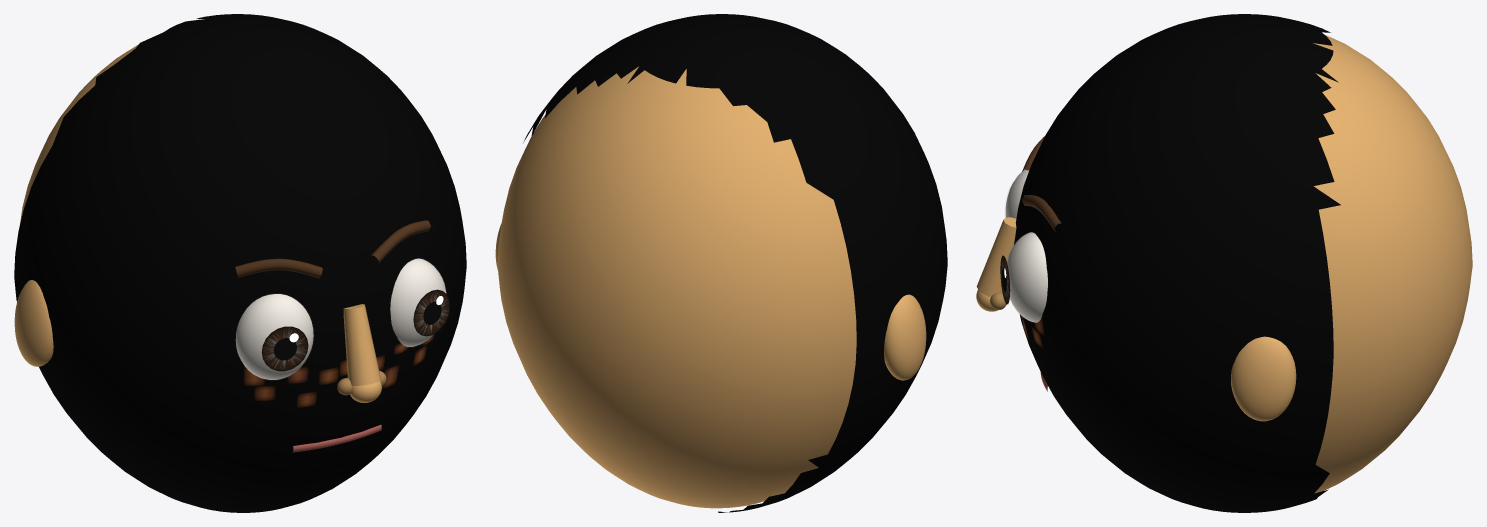
Rendered from 01-taches-de-rousseur.glb.
3 views of the same model, side by side, from view 1: azimuth 30°, elevation 25°; view 2: azimuth 150°, elevation 25°; view 3: azimuth 270°, elevation 25° (orthographic).
Size of the model in its own units: 0.3087 by 0.327 by 0.3166.
Materials: 10 (2 with a texture image).
